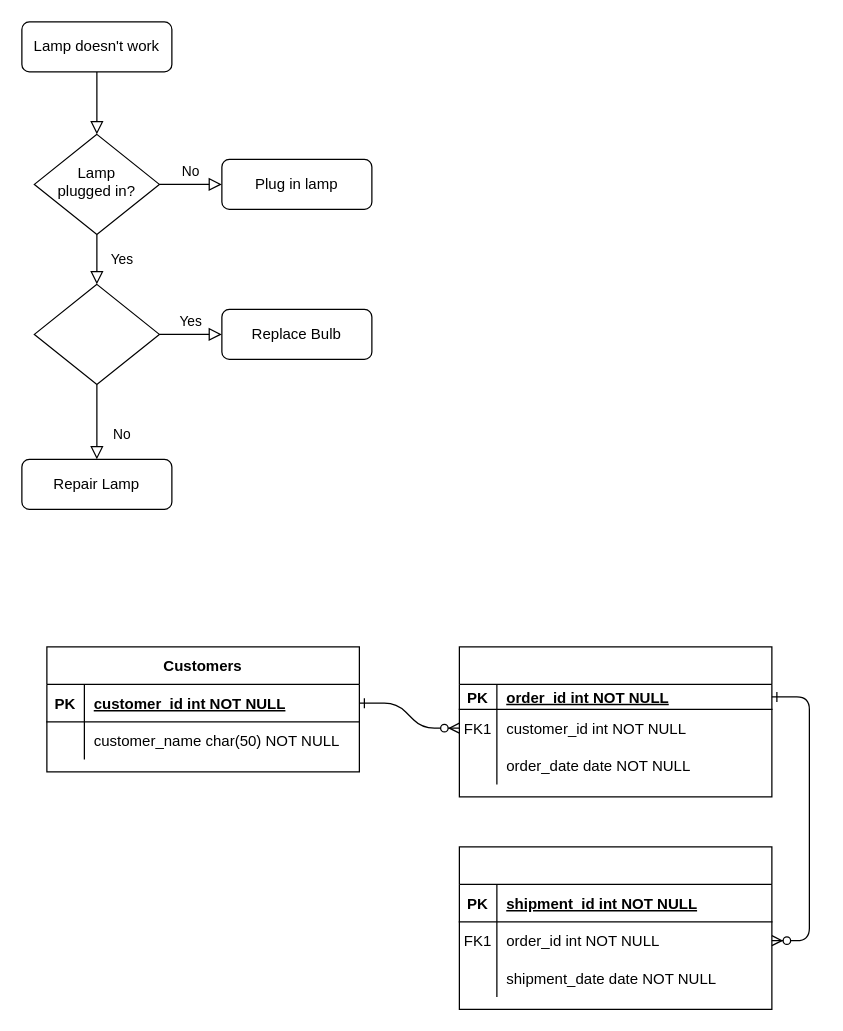
Image size: 843x1031. Some labels were removed from this diagram. The shapes that lost their labels are listed below. From the top down, each one's box as (x1, y1, x2, y2) in pixels, then its label:
(33, 283, 159, 384): Bulb burned out?
(458, 646, 772, 797): Orders
(458, 846, 772, 1009): Shipments
